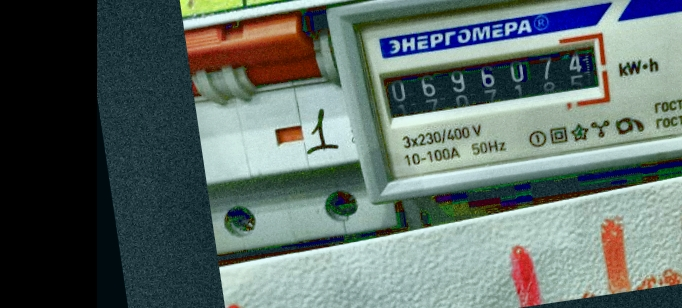0: (387, 75, 409, 102), (507, 56, 526, 83)
4: (564, 48, 583, 72)
5: (569, 72, 587, 89)
6: (478, 60, 499, 88), (418, 71, 439, 97)
7: (537, 53, 557, 80)
9: (448, 66, 467, 94)
screen: (368, 27, 615, 130)
